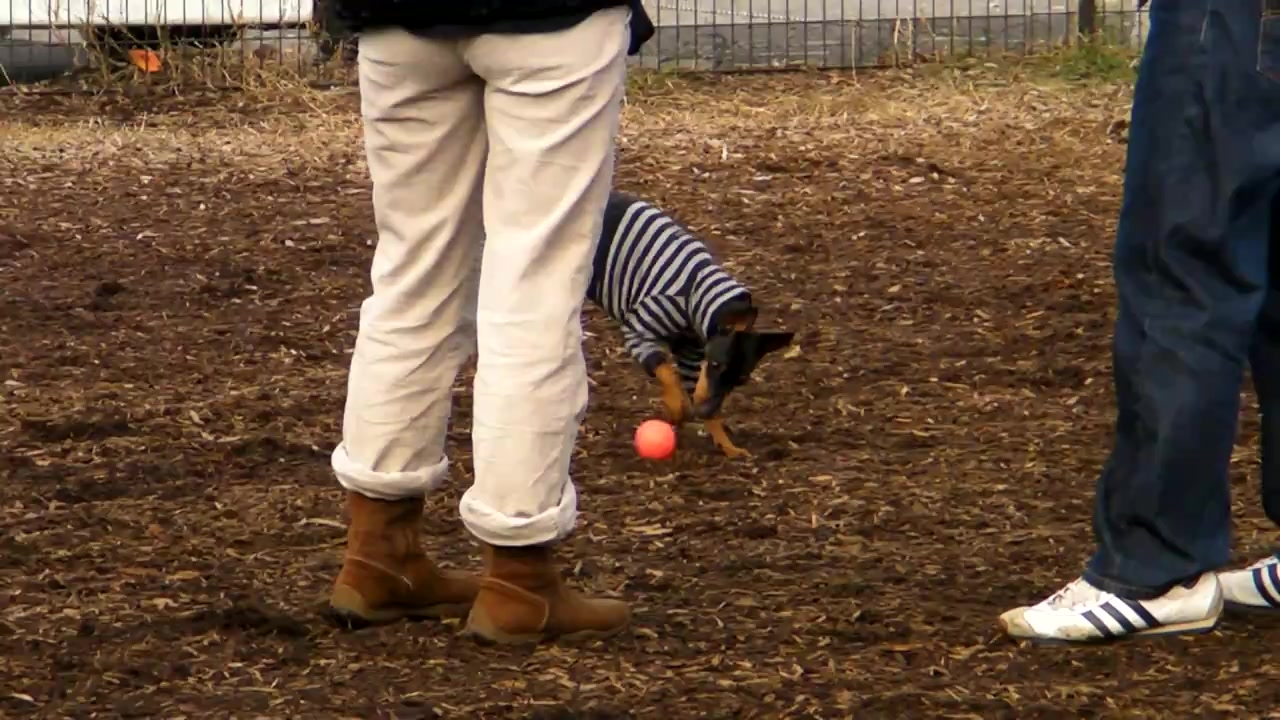dog: (587, 191, 799, 462)
